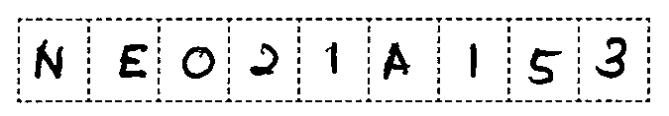0: (177, 40, 219, 84)
1: (454, 37, 490, 84), (320, 37, 348, 77)
2: (244, 40, 281, 82)
3: (590, 34, 632, 81)
5: (519, 42, 565, 88)
A: (376, 34, 415, 84)
E: (112, 36, 152, 84)
N: (30, 36, 70, 84)
